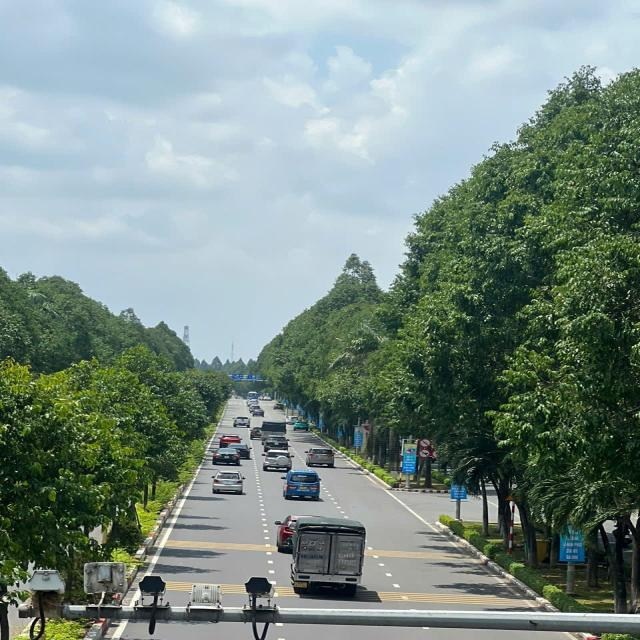Bus: (246, 392, 258, 402)
Truck: (293, 517, 364, 598), (262, 419, 286, 446)
car: (273, 514, 344, 552), (283, 471, 316, 500), (216, 469, 243, 495), (265, 450, 293, 471), (306, 448, 334, 468), (214, 448, 240, 464), (264, 436, 288, 451), (226, 444, 251, 458), (219, 434, 242, 447), (230, 415, 251, 425), (251, 425, 266, 439), (293, 421, 307, 430), (286, 416, 298, 424), (252, 408, 264, 416), (271, 403, 283, 410), (249, 406, 261, 412), (246, 400, 256, 406)
